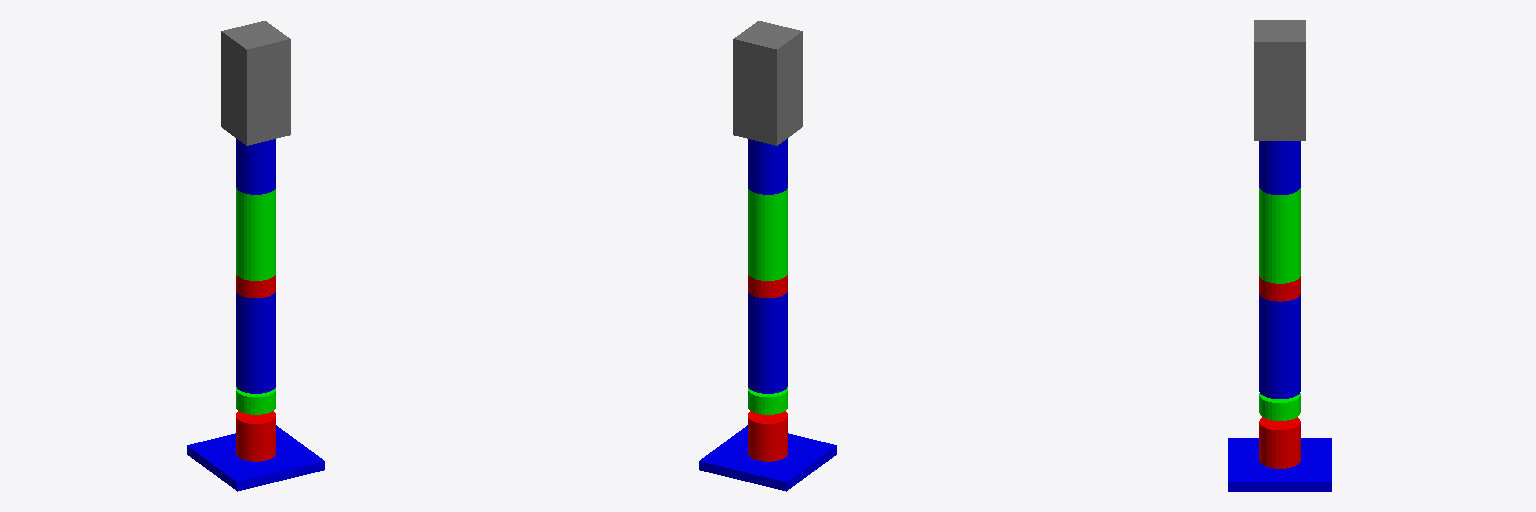
URDF robot description (seal):
<?xml version="1.0"?>
<robot name="seal">

  <!-- Base Link -->
  <link name="base_link">
    <visual>
      <origin xyz="0 0 0" rpy="0 0 0"/>
      <geometry>
        <box size="0.1 0.1 0.01"/> <!-- Base link visualization -->
      </geometry>
      <material name="blue">
        <color rgba="0 0 1 1"/> <!-- Blue color -->
      </material>
    </visual>
  </link>

  <!-- Articulation 1 -->
  <link name="art1">
    <visual>
      <origin xyz="0 0 0.023" rpy="0 0 0"/> <!-- Center of the link -->
      <geometry>
        <cylinder length="0.046" radius="0.02"/> <!-- Length = 0.046 m -->
      </geometry>
      <material name="red">
        <color rgba="1 0 0 1"/> <!-- Red color -->
      </material>
    </visual>
  </link>

  <!-- Fixed Joint Connecting Base to Art1 -->
  <joint name="base_to_art1" type="fixed">
    <parent link="base_link"/>
    <child link="art1"/>
    <origin xyz="0 0 0" rpy="0 0 0"/> <!-- Origin at (0, 0, 0) -->
  </joint>

  <!-- Articulation 2 -->
  <link name="art2">
    <visual>
      <origin xyz="0 0 0.0095" rpy="0 0 0"/> <!-- Center of the link -->
      <geometry>
        <cylinder length="0.019" radius="0.02"/> <!-- Length = 0.019 m -->
      </geometry>
      <material name="green">
        <color rgba="0 1 0 1"/> <!-- Green color -->
      </material>
    </visual>
  </link>

  <!-- Joint 1: Connects Art1 and Art2 -->
  <joint name="joint1" type="revolute">
    <parent link="art1"/>
    <child link="art2"/>
    <origin xyz="0 0 0.056" rpy="0 0 0"/> <!-- Origin at (0, 0, 0.046) -->
    <axis xyz="0 0 1"/> <!-- Rotation around Z-axis -->
    <limit lower="-1.570795" upper="1.570795" effort="10" velocity="1"/>
  </joint>

  <!-- Articulation 3 -->
  <link name="art3">
    <visual>
      <origin xyz="0 0 0.052" rpy="0 0 0"/> <!-- Center of the link -->
      <geometry>
        <cylinder length="0.104" radius="0.02"/> <!-- Length = 0.104 m -->
      </geometry>
      <material name="blue">
        <color rgba="0 0 1 1"/> <!-- Blue color -->
      </material>
    </visual>
  </link>

  <!-- Joint 2: Connects Art2 and Art3 -->
  <joint name="joint2" type="revolute">
    <parent link="art2"/>
    <child link="art3"/>
    <origin xyz="0 0 0.023" rpy="0 0 0"/> <!-- Origin at (0, 0, 0.019) -->
    <axis xyz="0 1 0"/> <!-- Rotation around Y-axis -->
    <!-- <limit lower="-1.5708" upper="1.5708" effort="10" velocity="1"/> Limited rotation -->
    <limit lower="-1.570795" upper="1.570795" effort="10" velocity="1"/>
  </joint>

  <!-- Articulation 4 -->
  <link name="art4">
    <visual>
      <origin xyz="0 0 0.0095" rpy="0 0 0"/> <!-- Center of the link -->
      <geometry>
        <cylinder length="0.019" radius="0.02"/> <!-- Length = 0.019 m -->
      </geometry>
      <material name="red">
        <color rgba="1 0 0 1"/> <!-- Red color -->
      </material>
    </visual>
  </link>

  <!-- Joint 3: Connects Art3 and Art4 -->
  <joint name="joint3" type="revolute">
    <parent link="art3"/>
    <child link="art4"/>
    <origin xyz="0 0 0.104" rpy="0 0 0"/> <!-- Origin at (0, 0, 0.104) -->
    <!-- <axis xyz="0 0 1"/> -->
    <axis xyz="0 1 0"/>
    <!-- <limit lower="-3.14159" upper="3.14159" effort="10" velocity="1"/> -->
    <limit lower="-0.1" upper="2" effort="10" velocity="1"/>
  </joint>

  <!-- Articulation 5 -->
  <link name="art5">
    <visual>
      <origin xyz="0 0 0.047" rpy="0 0 0"/> <!-- Center of the link -->
      <geometry>
        <cylinder length="0.094" radius="0.02"/> <!-- Length = 0.094 m -->
      </geometry>
      <material name="green">
        <color rgba="0 1 0 1"/> <!-- Green color -->
      </material>
    </visual>
  </link>

  <!-- Joint 4: Connects Art4 and Art5 -->
  <joint name="joint4" type="revolute">
    <parent link="art4"/>
    <child link="art5"/>
    <origin xyz="0 0 0.019" rpy="0 0 0"/> <!-- Origin at (0, 0, 0.019) -->
    <!-- <axis xyz="0 1 0"/> -->
    <axis xyz="0 0 1"/>
     <limit lower="-1.5" upper="1.5" effort="10" velocity="1"/>
  </joint>

  <!-- Articulation 6 -->
  <link name="art6">
    <visual>
      <origin xyz="0 0 0.03" rpy="0 0 0"/> <!-- Center of the link -->
      <geometry>
        <cylinder length="0.06" radius="0.02"/> <!-- Length = 0.06 m -->
      </geometry>
      <material name="blue">
        <color rgba="0 0 1 1"/> <!-- Blue color -->
      </material>
    </visual>
  </link>

  <!-- Joint 5: Connects Art5 and Art6 -->
  <joint name="joint5" type="revolute">
    <parent link="art5"/>
    <child link="art6"/>
    <origin xyz="0 0 0.094" rpy="0 0 0"/> <!-- Origin at (0, 0, 0.094) -->
    <axis xyz="0 1 0"/>
    <limit lower="-1.5" upper="1.5" effort="10" velocity="1"/>
  </joint>

  <!-- Gripper -->
  <link name="gripper">
    <visual>
      <origin xyz="0 0 0.0525" rpy="0 0 0"/> <!-- Center of the gripper -->
      <geometry>
        <box size="0.05 0.05 0.105"/> <!-- Length = 0.105 m -->
      </geometry>
      <material name="gray">
        <color rgba="0.5 0.5 0.5 1"/> <!-- Gray color -->
      </material>
    </visual>
  </link>

  <!-- Joint 6: Connects Art6 and Gripper -->
  <joint name="joint6" type="revolute">
    <parent link="art6"/>
    <child link="gripper"/>
    <origin xyz="0 0 0.06" rpy="0 0 0"/> <!-- Origin at (0, 0, 0.06) -->
    <axis xyz="0 0 1"/>
    <limit lower="-1.57" upper="1.57" effort="10" velocity="1"/> <!-- Full rotation -->
  </joint>

  <!-- Joint 6: Connects Art6 and Gripper -->
  <joint name="gripper_tip" type="fixed">
    <parent link="gripper"/>
    <child link="gripper_tip"/>
    <origin xyz="0 0 0.105" rpy="0 0 0"/>
    <limit lower="0" upper="1.570795" effort="10" velocity="1"/> <!-- Full rotation -->
  </joint>

  <link name="gripper_tip">
  </link>

</robot>

--- Render facts (derived) ---
Views: 3 orthographic renders of the robot side by side, from view 1: azimuth 30°, elevation 25°; view 2: azimuth 150°, elevation 25°; view 3: azimuth 270°, elevation 25°.
Robot: seal — 9 links, 8 joints (6 revolute, 2 fixed); root link base_link; default pose: every joint at zero.
Links seen in each view (by area): view 1: gripper, base_link, art3, art5, art6, art1, art2, art4; view 2: gripper, base_link, art3, art5, art6, art1, art2, art4; view 3: gripper, base_link, art3, art5, art6, art1, art2, art4.
Link boxes in pixels (bbox=[...]): gripper: bbox=[221, 21, 290, 145]; base_link: bbox=[187, 425, 324, 491]; art3: bbox=[236, 292, 275, 393]; art5: bbox=[236, 188, 275, 280]; art6: bbox=[236, 138, 275, 194]; art1: bbox=[236, 411, 275, 461]; art2: bbox=[236, 387, 275, 414]; art4: bbox=[236, 275, 275, 297]; gripper: bbox=[733, 21, 802, 145]; base_link: bbox=[699, 425, 836, 491]; art3: bbox=[748, 292, 787, 393]; art5: bbox=[748, 188, 787, 280]; art6: bbox=[748, 138, 787, 194]; art1: bbox=[748, 411, 787, 461]; art2: bbox=[748, 387, 787, 414]; art4: bbox=[748, 275, 787, 297]; gripper: bbox=[1254, 20, 1305, 140]; base_link: bbox=[1228, 438, 1331, 491]; art3: bbox=[1259, 294, 1300, 398]; art5: bbox=[1259, 188, 1300, 283]; art6: bbox=[1259, 141, 1300, 194]; art1: bbox=[1259, 417, 1300, 468]; art2: bbox=[1259, 393, 1300, 420]; art4: bbox=[1259, 276, 1300, 301].
Size in the robot's own frame: 0.1 by 0.1 by 0.466 metres.
Geometry: primitives only (box / cylinder / sphere), no mesh files.
